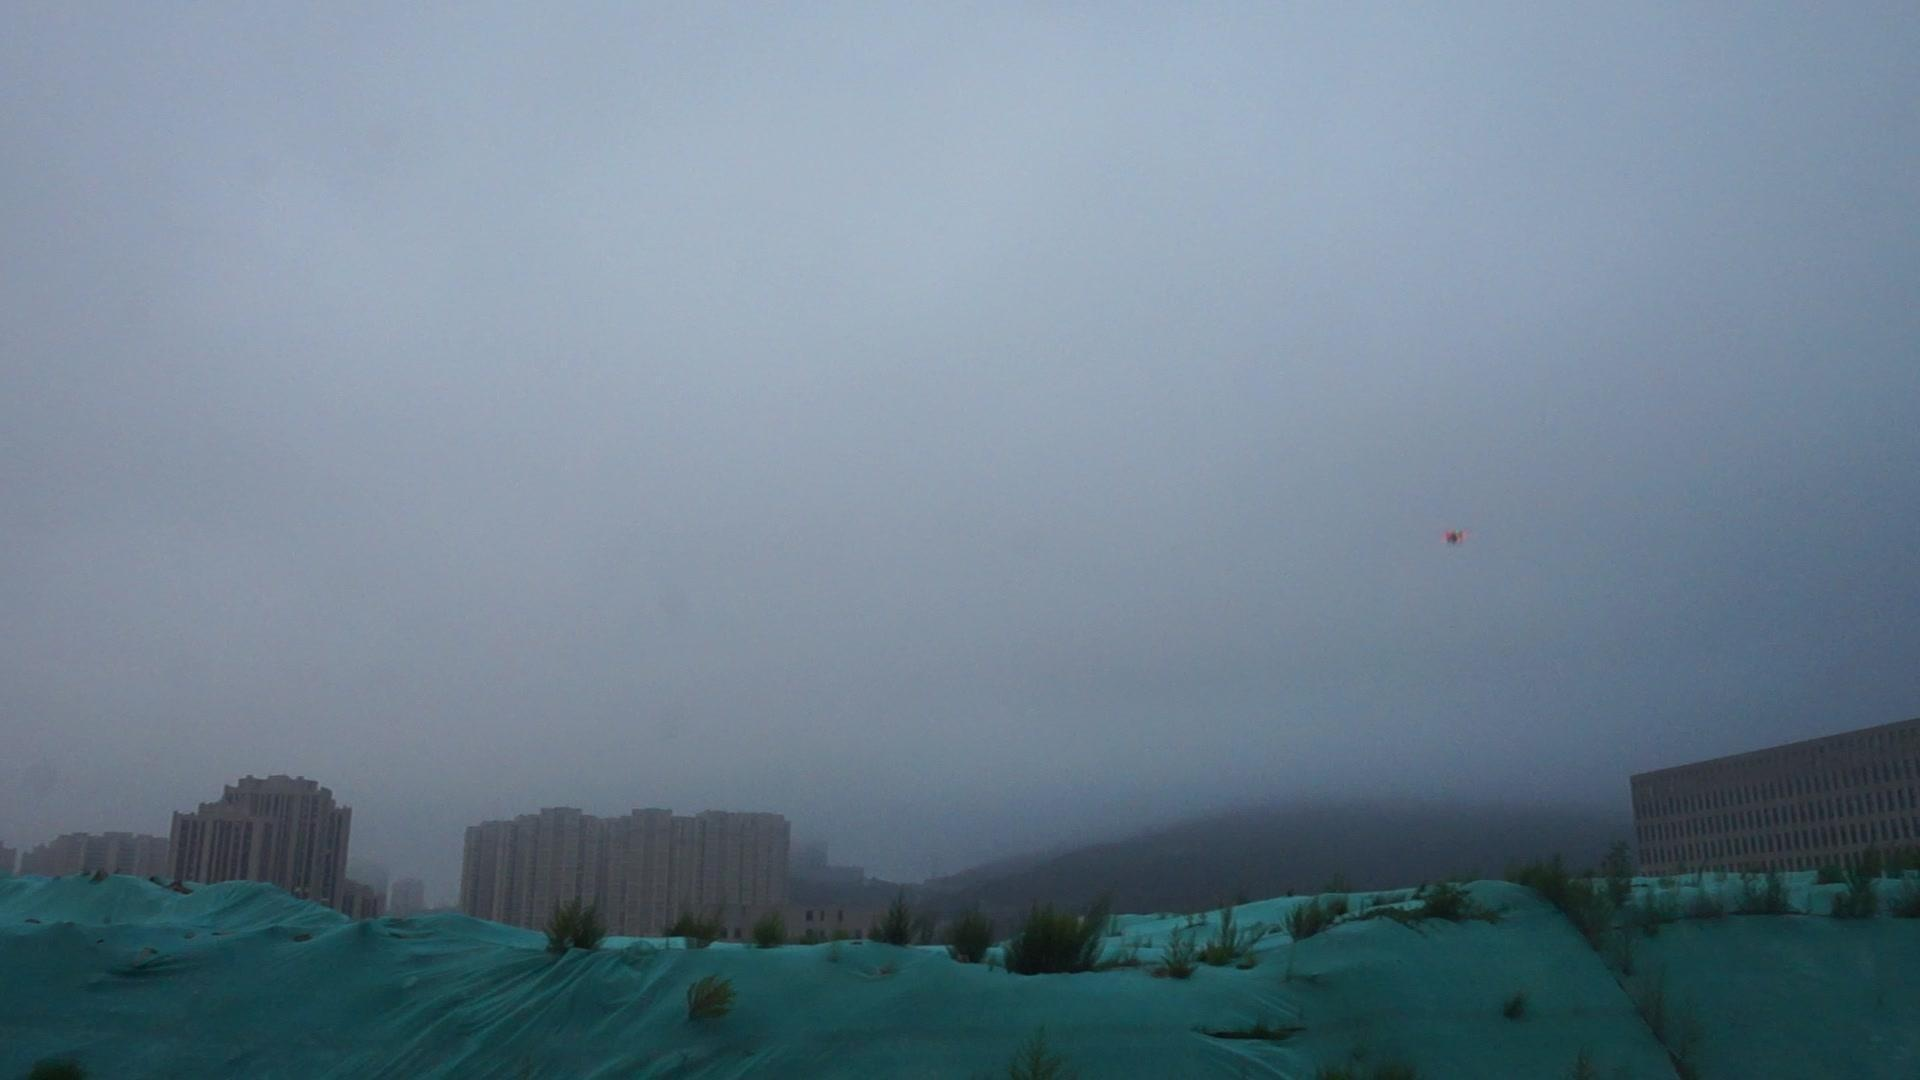UAV: (1441, 529, 1472, 545)
